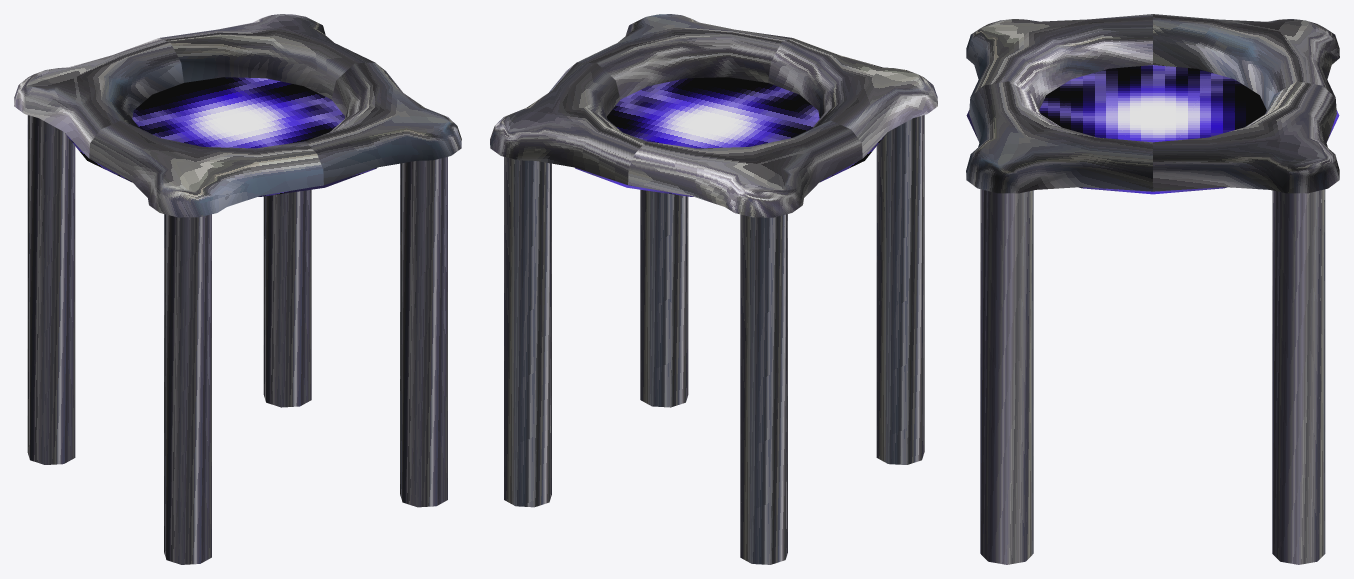
File: AminTranfo.FBX
3 views of the same model, side by side, from view 1: azimuth 30°, elevation 25°; view 2: azimuth 150°, elevation 25°; view 3: azimuth 270°, elevation 25° (orthographic). The views are drawn at different scales.
Visible parts, largest first — view 1: AnimTrafo_Bars, AnimTrafo_Ringpart1, AnimTrafo_Flashfield, AnimTrafo_Ringpart2, AnimTrafo_Ringpart4, AnimTrafo_Ringpart3; view 2: AnimTrafo_Bars, AnimTrafo_Ringpart4, AnimTrafo_Flashfield, AnimTrafo_Ringpart3, AnimTrafo_Ringpart1, AnimTrafo_Ringpart2; view 3: AnimTrafo_Bars, AnimTrafo_Flashfield, AnimTrafo_Ringpart2, AnimTrafo_Ringpart3, AnimTrafo_Ringpart1, AnimTrafo_Ringpart4.
Boxes of the visible parts, bbox=[...] form: AnimTrafo_Bars: bbox=[27, 115, 447, 564]; AnimTrafo_Ringpart1: bbox=[89, 120, 323, 217]; AnimTrafo_Flashfield: bbox=[65, 77, 377, 196]; AnimTrafo_Ringpart2: bbox=[305, 62, 461, 184]; AnimTrafo_Ringpart4: bbox=[14, 38, 183, 157]; AnimTrafo_Ringpart3: bbox=[159, 14, 374, 99]; AnimTrafo_Bars: bbox=[504, 115, 924, 564]; AnimTrafo_Ringpart4: bbox=[628, 120, 862, 217]; AnimTrafo_Flashfield: bbox=[574, 77, 885, 196]; AnimTrafo_Ringpart3: bbox=[490, 62, 645, 184]; AnimTrafo_Ringpart1: bbox=[768, 38, 937, 157]; AnimTrafo_Ringpart2: bbox=[577, 14, 792, 99]; AnimTrafo_Bars: bbox=[980, 189, 1325, 564]; AnimTrafo_Flashfield: bbox=[966, 65, 1339, 194]; AnimTrafo_Ringpart2: bbox=[966, 81, 1152, 193]; AnimTrafo_Ringpart3: bbox=[1153, 81, 1339, 193]; AnimTrafo_Ringpart1: bbox=[966, 14, 1152, 109]; AnimTrafo_Ringpart4: bbox=[1153, 14, 1339, 109].
Bounding box in the file's own units: 4.93 × 5.98 × 4.93.
4 materials, 4 textured.
